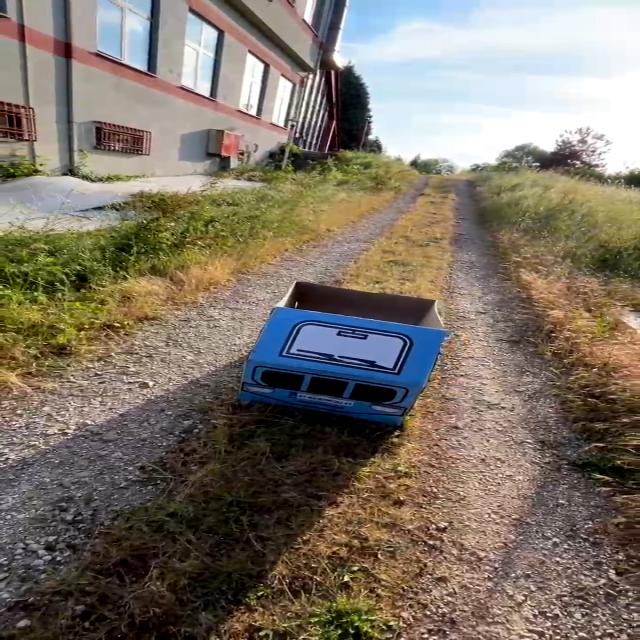blue_car: (199, 227, 475, 479)
